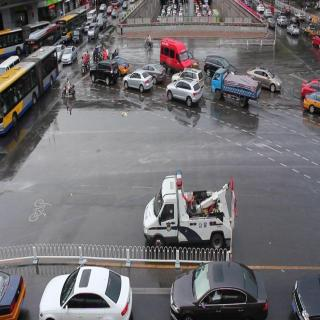BigCar: (0, 33, 58, 157)
Car: (146, 176, 240, 252), (162, 269, 269, 320), (39, 266, 136, 320), (157, 31, 202, 79), (215, 66, 257, 113), (244, 56, 284, 98), (166, 79, 198, 117), (121, 73, 149, 105), (142, 58, 165, 90), (93, 58, 114, 92), (61, 40, 77, 70), (88, 22, 104, 47), (286, 21, 300, 44), (264, 14, 276, 36)
